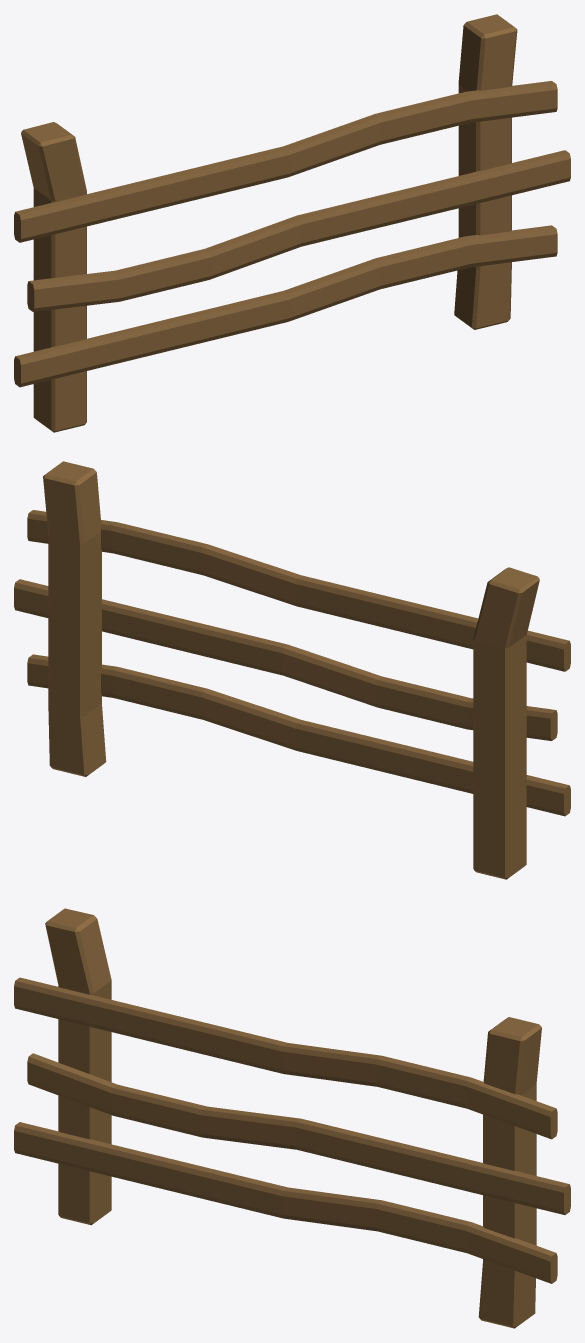
Rendered from cerca2blend.fbx.
3 views of the same model, one above another, from view 1: azimuth 30°, elevation 25°; view 2: azimuth 150°, elevation 25°; view 3: azimuth 330°, elevation 25° (orthographic).
Visible parts, largest first — view 1: cerca 2; view 2: cerca 2; view 3: cerca 2.
Part boxes in pixels (x1=…): cerca 2: x1=14, y1=14, x2=570, y2=432; cerca 2: x1=14, y1=461, x2=570, y2=879; cerca 2: x1=14, y1=908, x2=570, y2=1328.
Bounding box in the file's own units: 1030 × 528 × 87.72.
